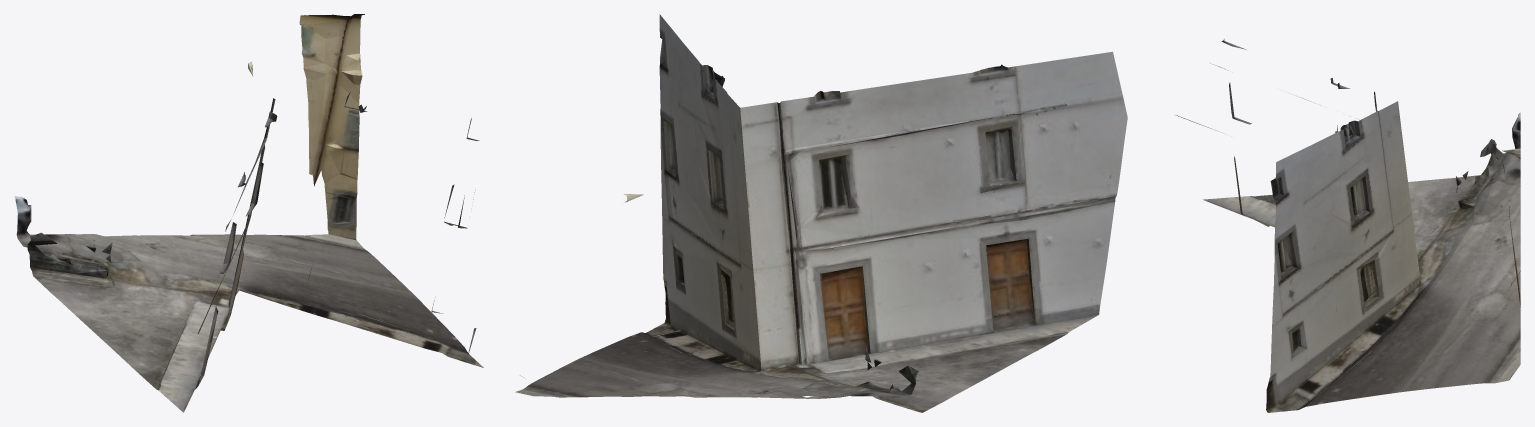
The picture shows the model from 3 angles, left to right: view 1: azimuth 30°, elevation 25°; view 2: azimuth 150°, elevation 25°; view 3: azimuth 270°, elevation 25°; orthographic projection. The views are drawn at different scales.
Size of the model in its own units: 13.4 by 10.16 by 13.4.
Materials: 4 (4 with a texture image).
